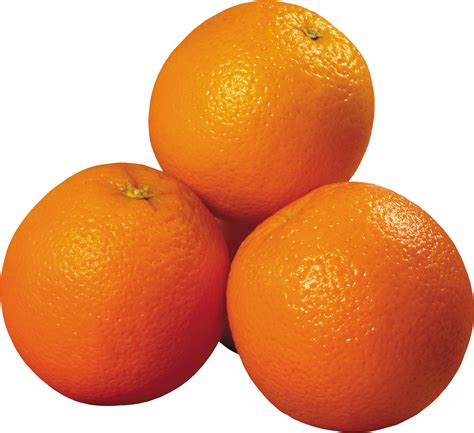orange: (222, 175, 474, 429), (1, 162, 232, 408), (143, 1, 379, 197)
